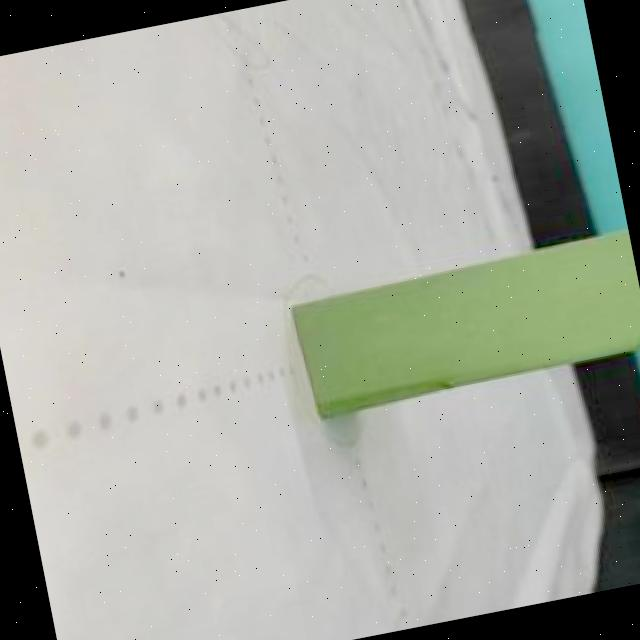greenbox: (281, 226, 640, 423)
